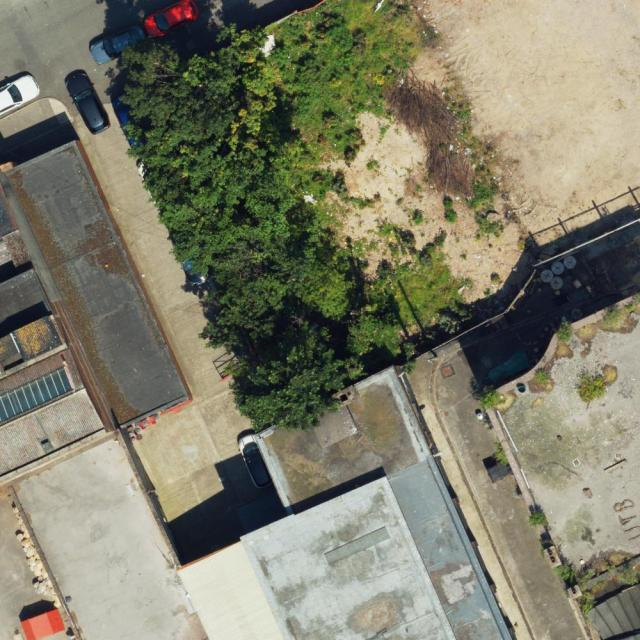roof: (0, 141, 517, 640)
skylight: (0, 368, 77, 424)
